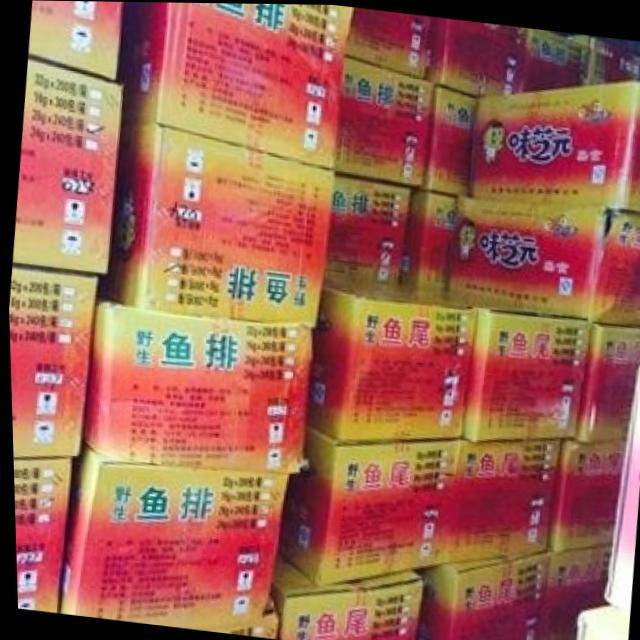box: (103, 116, 336, 324), (55, 438, 286, 632), (79, 299, 309, 473), (120, 2, 353, 169), (274, 420, 460, 587), (303, 275, 474, 441), (446, 194, 640, 323), (10, 57, 123, 273), (469, 79, 640, 210), (448, 296, 590, 440), (7, 264, 97, 458), (439, 434, 557, 562), (266, 545, 423, 640), (412, 548, 548, 640), (338, 54, 433, 182), (321, 174, 407, 280), (11, 457, 69, 613), (544, 437, 621, 550), (425, 15, 531, 95), (576, 319, 640, 440), (28, 0, 123, 80), (532, 543, 609, 640), (418, 81, 475, 194), (399, 187, 457, 296), (343, 6, 432, 76), (223, 590, 277, 638), (523, 57, 580, 90)
